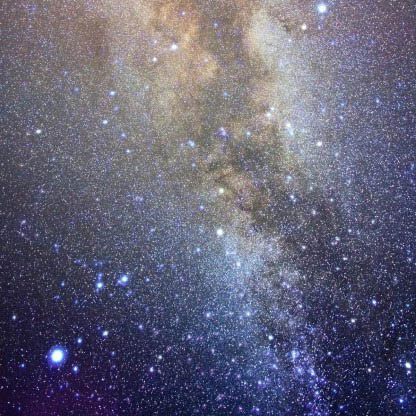Lyra: (42, 336, 69, 371), (88, 275, 109, 295), (70, 361, 86, 381), (116, 268, 133, 286), (71, 330, 86, 349), (97, 325, 112, 340)
